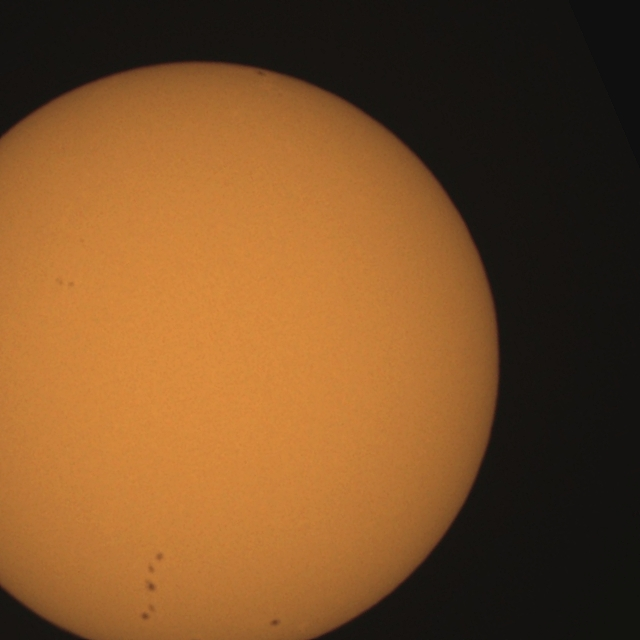sunspot: (145, 551, 165, 580), (139, 594, 157, 624), (54, 276, 76, 290), (145, 580, 157, 594), (269, 618, 282, 628)
